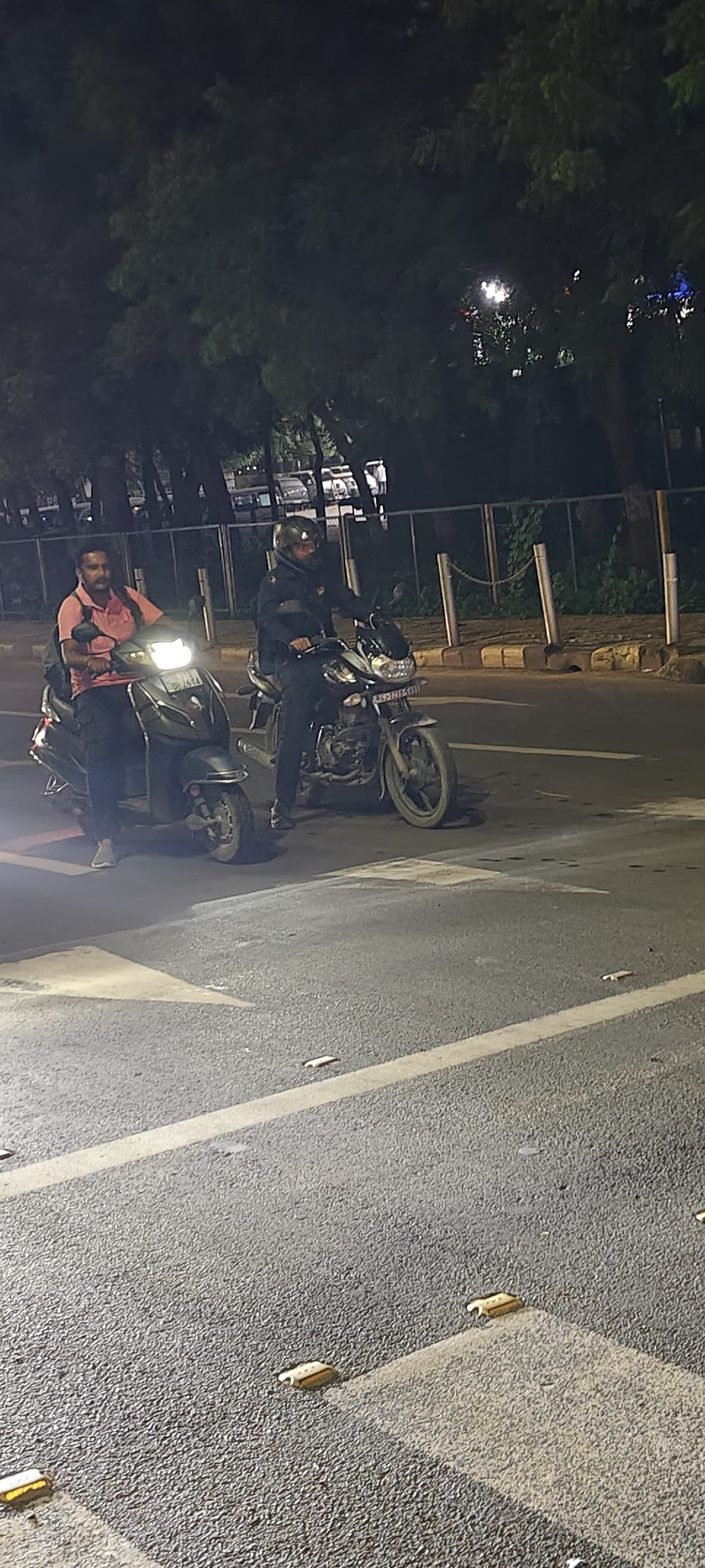BikeWithRider: (205, 497, 507, 844), (11, 537, 266, 874)
Helmet: (256, 514, 354, 595)
NoHelmet: (69, 534, 140, 602)
